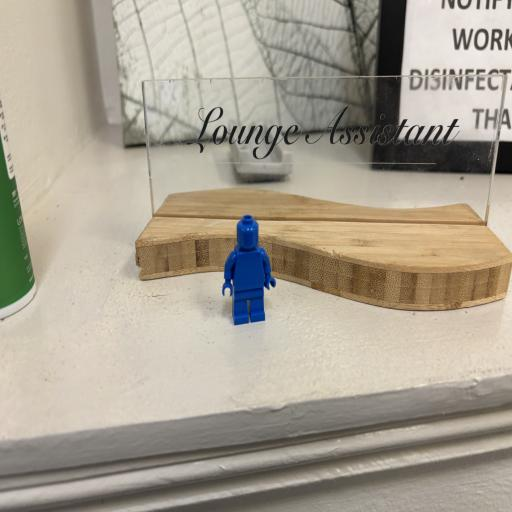Blue-Lego-Minifig: (222, 215, 276, 325)
